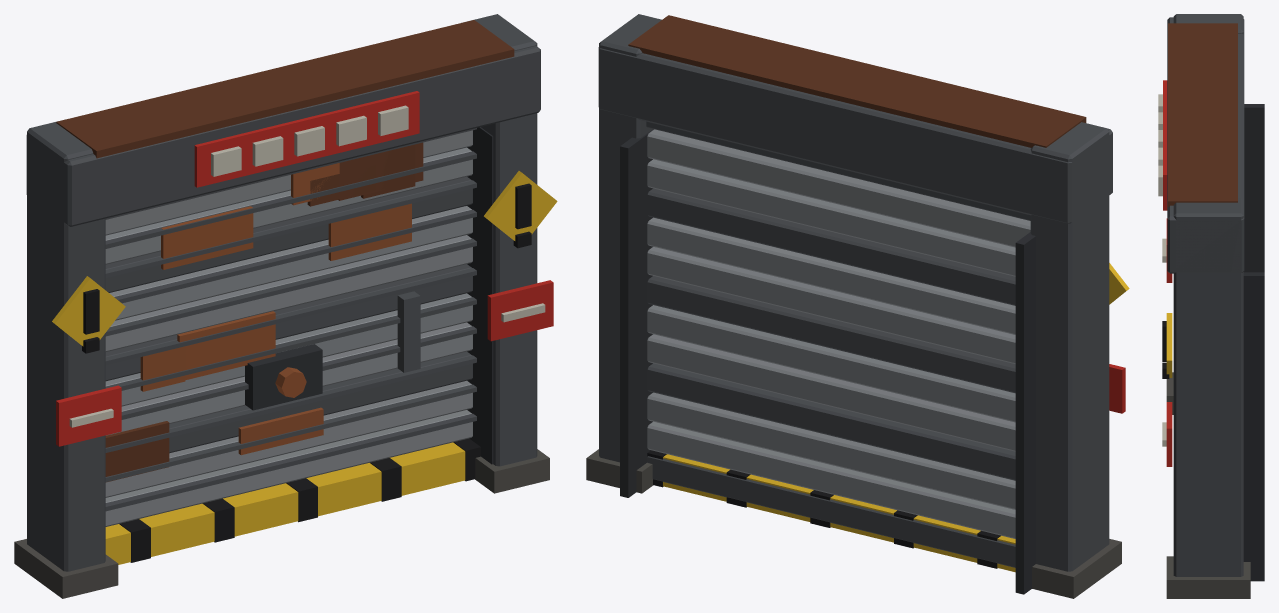
File: lmk_boss_gate.fbx
The picture shows the model from 3 angles, left to right: view 1: azimuth 30°, elevation 25°; view 2: azimuth 150°, elevation 25°; view 3: azimuth 270°, elevation 25°; orthographic projection. The views are drawn at different scales.
Visible parts, largest first — view 1: lmk_boss_gate; view 2: lmk_boss_gate; view 3: lmk_boss_gate.
Boxes of the visible parts, x1,y1,x2,y2 form: lmk_boss_gate: (14, 14, 557, 598); lmk_boss_gate: (586, 14, 1129, 598); lmk_boss_gate: (1158, 14, 1264, 598).
Size of the model in its own units: 3.61 by 3.01 by 0.76.
